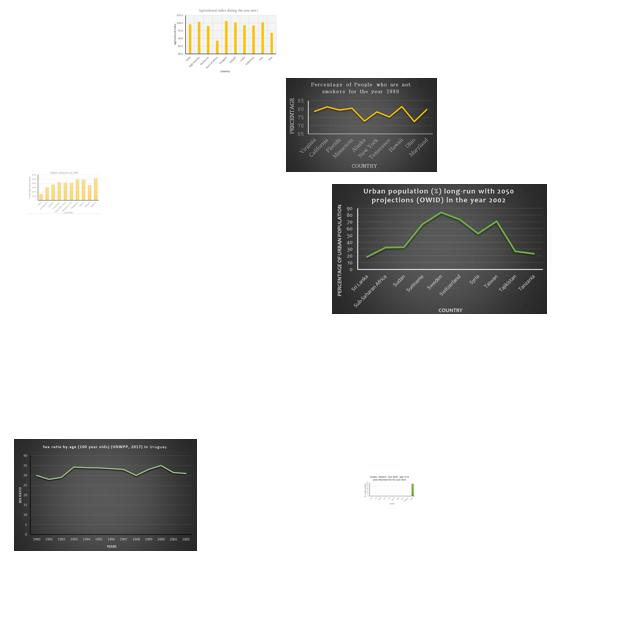Graph: (332, 184, 547, 314), (14, 439, 197, 551), (286, 78, 437, 172), (170, 8, 278, 73), (28, 171, 100, 214), (363, 475, 416, 505)
